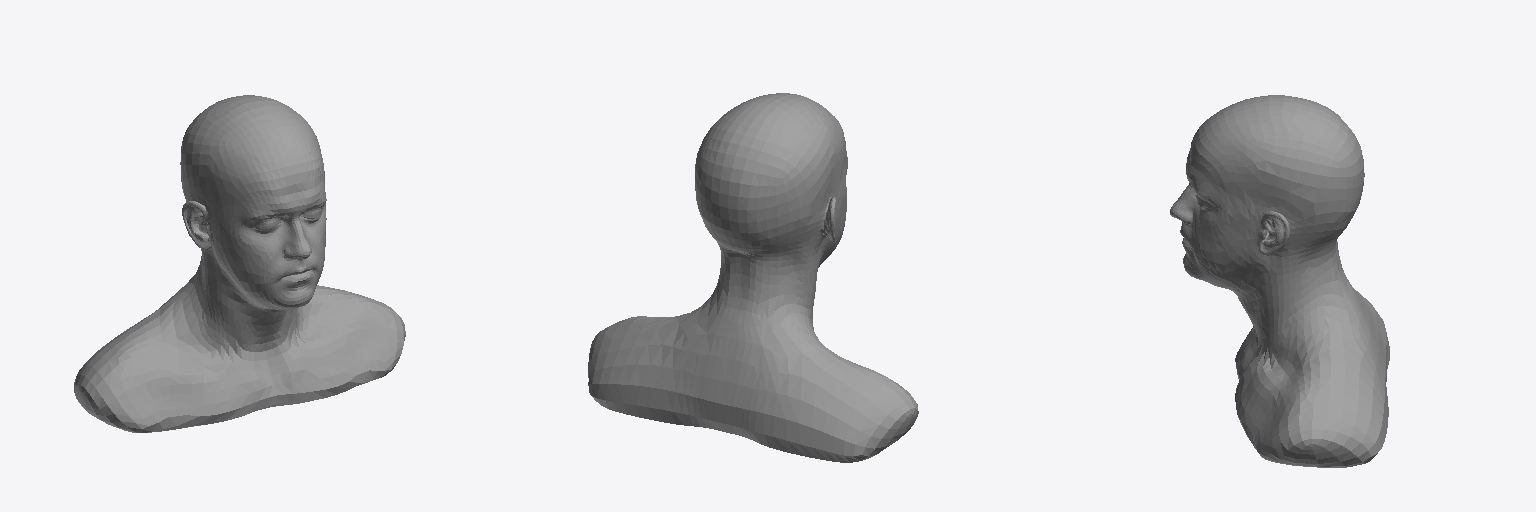
File: head.obj
3 views of the same model, side by side, from view 1: azimuth 30°, elevation 25°; view 2: azimuth 150°, elevation 25°; view 3: azimuth 270°, elevation 25° (orthographic).
Visible parts, largest first — view 1: Group33; view 2: Group33; view 3: Group33.
Boxes of the visible parts, <box> form: Group33: <box>74,95,405,432</box>; Group33: <box>588,93,918,462</box>; Group33: <box>1170,95,1389,467</box>.
Size of the model in its own units: 6.31 by 5.86 by 3.82.